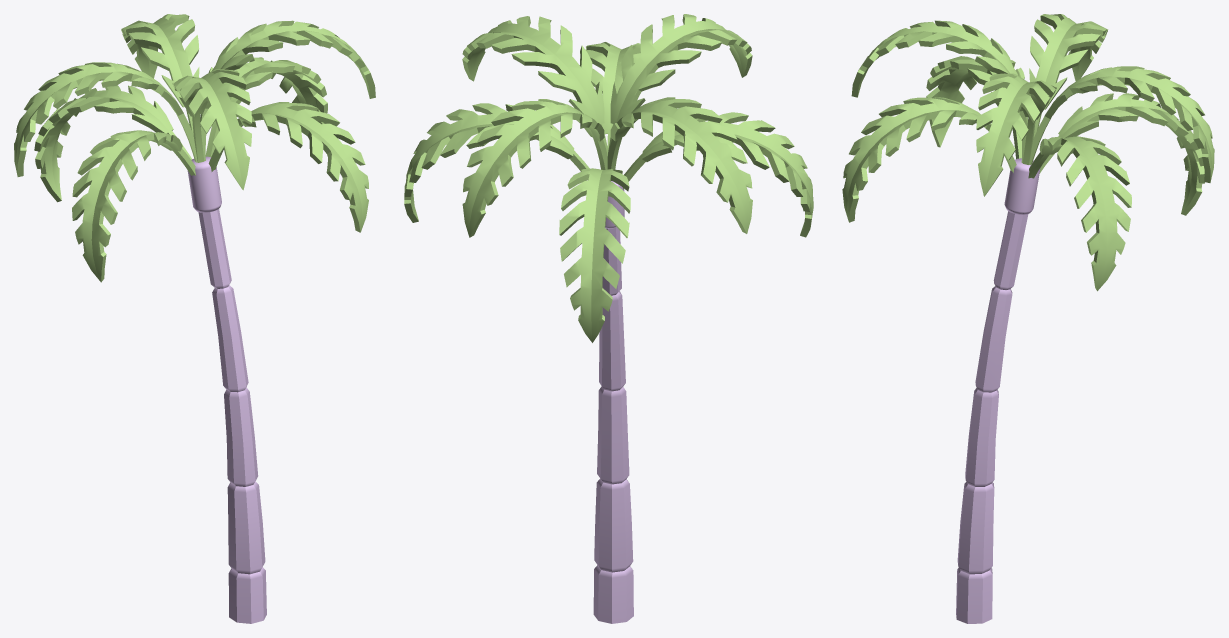
File: palm2.fbx
The picture shows the model from 3 angles, left to right: view 1: azimuth 30°, elevation 25°; view 2: azimuth 150°, elevation 25°; view 3: azimuth 270°, elevation 25°; orthographic projection. The views are drawn at different scales.
Visible parts, largest first — view 1: palm2; view 2: palm2; view 3: palm2.
Boxes of the visible parts, x1=… form: palm2: x1=14, y1=14, x2=375, y2=623; palm2: x1=404, y1=14, x2=813, y2=623; palm2: x1=842, y1=14, x2=1214, y2=623.
Bounding box in the file's own units: 5.76 × 9.71 × 5.8.
